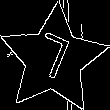L_SW: (30, 30, 77, 88)
